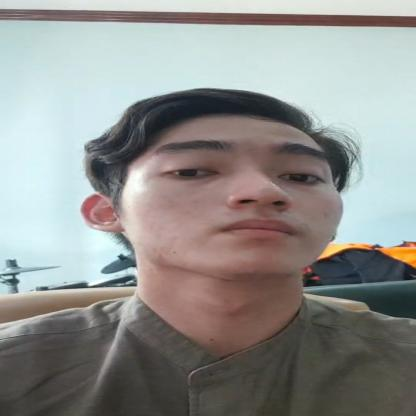Palm: (17, 64, 404, 311)
